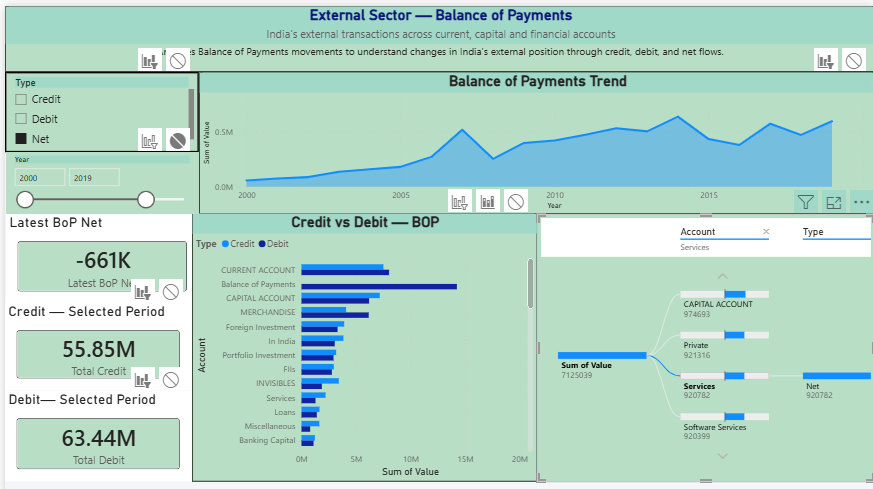

The dashboard page shown, as its layout file describes it:
{"tool":"powerbi","page":{"name":"External Sector","canvas":[1280,720],"ordinal":2},"visuals":[{"type":"textbox","title":"External Sector — Balance of Payments","box":[0,0,1280.6,97],"z":0},{"type":"slicer","fields":{"Values":["India overall balance.Type"]},"box":[19.7,80.4,284.2,128.7],"z":1000},{"type":"areaChart","title":"Balance of Payments Trend","fields":{"Y":["Sum(India overall balance.Value)"],"Category":["India overall balance.Year"]},"box":[327.2,182.3,799.1,246.7],"z":2000},{"type":"cardVisual","title":"Latest BoP Net","fields":{"Data":["India overall balance.Latest BoP Net"]},"box":[346.8,75.1,255.6,107.3],"z":3000},{"type":"clusteredBarChart","title":"Credit vs Debit — BOP","fields":{"Y":["Sum(India overall balance.Value)"],"Series":["India overall balance.Type"],"Category":["India overall balance.Account"]},"box":[20.3,428.6,638.6,292.5],"z":4000},{"type":"cardVisual","title":"Credit — Selected Period","fields":{"Data":["India overall balance.Total Credit"]},"box":[640,81.1,250.5,101.4],"z":5000},{"type":"cardVisual","title":"Debit— Selected Period","fields":{"Data":["India overall balance.Total Debit"]},"box":[938.5,82.2,264.6,100.1],"z":6000},{"type":"decompositionTreeVisual","fields":{"Analyze":["Sum(India overall balance.Value)"],"ExplainBy":["India overall balance.Account","India overall balance.Type"]},"box":[689.2,428.6,570.5,292.5],"z":7000},{"type":"slicer","fields":{"Values":["India overall balance.Year"]},"box":[20.3,208.5,283.8,152],"z":8000}]}

Visuals, with their boxes in screenshot pixels (x1, y1, x2, y2), scaled from the page's 1280x720 canvas onto the 873x489 screenshot:
"External Sector — Balance of Payments" textbox: bbox(0, 0, 872, 66)
slicer - India overall balance.Type: bbox(13, 55, 207, 142)
"Balance of Payments Trend" areaChart: bbox(223, 124, 768, 291)
"Latest BoP Net" cardVisual: bbox(237, 51, 411, 124)
"Credit vs Debit — BOP" clusteredBarChart: bbox(14, 291, 449, 488)
"Credit — Selected Period" cardVisual: bbox(436, 55, 607, 124)
"Debit— Selected Period" cardVisual: bbox(640, 56, 821, 124)
decompositionTreeVisual - Sum(India overall balance.Value) x India overall balance.Account: bbox(470, 291, 859, 488)
slicer - India overall balance.Year: bbox(14, 142, 207, 245)
